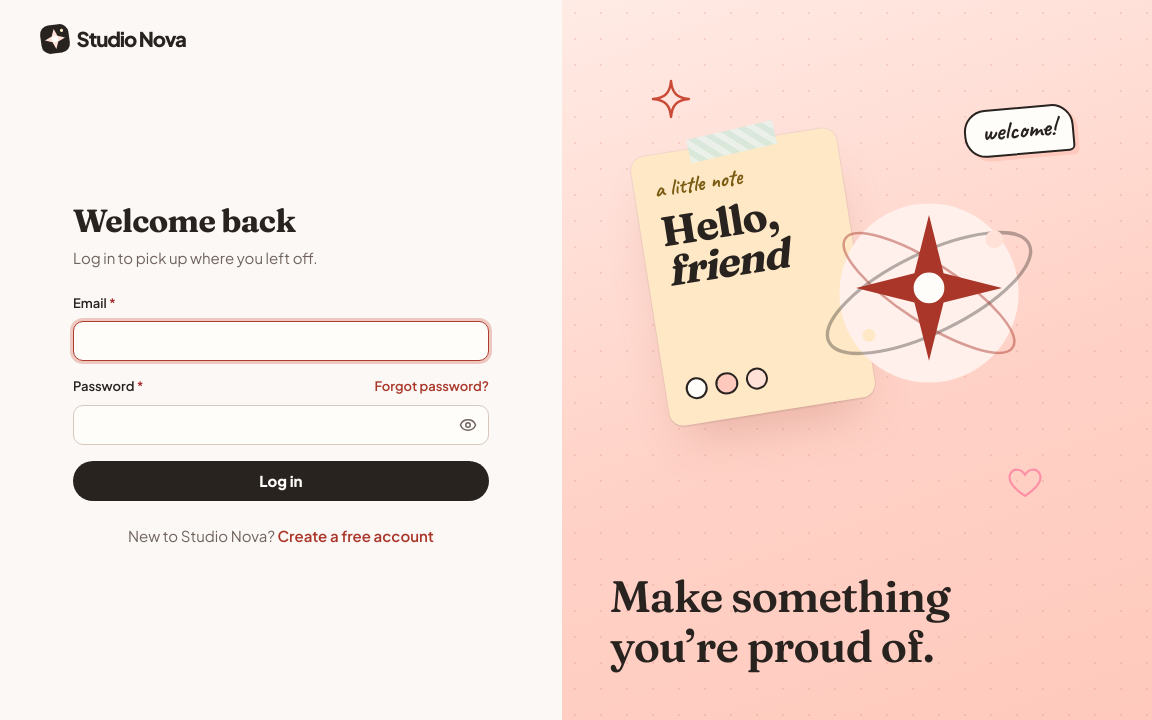
Test case: login › tells the user when they are rate limited
Type "ada@example.com" into the field labelled "Email *". click: (281, 341)
box: [86, 322, 476, 360]
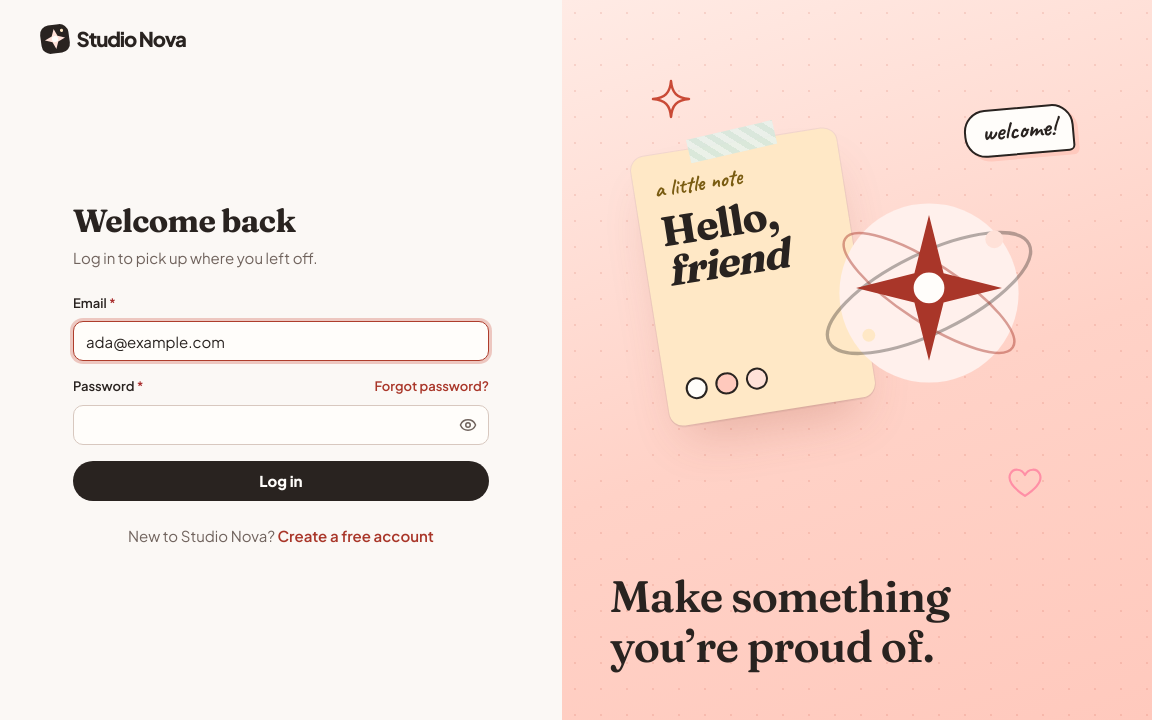
Type "x" into the password field labelled "Password *". click: (265, 425)
box: [86, 406, 444, 444]
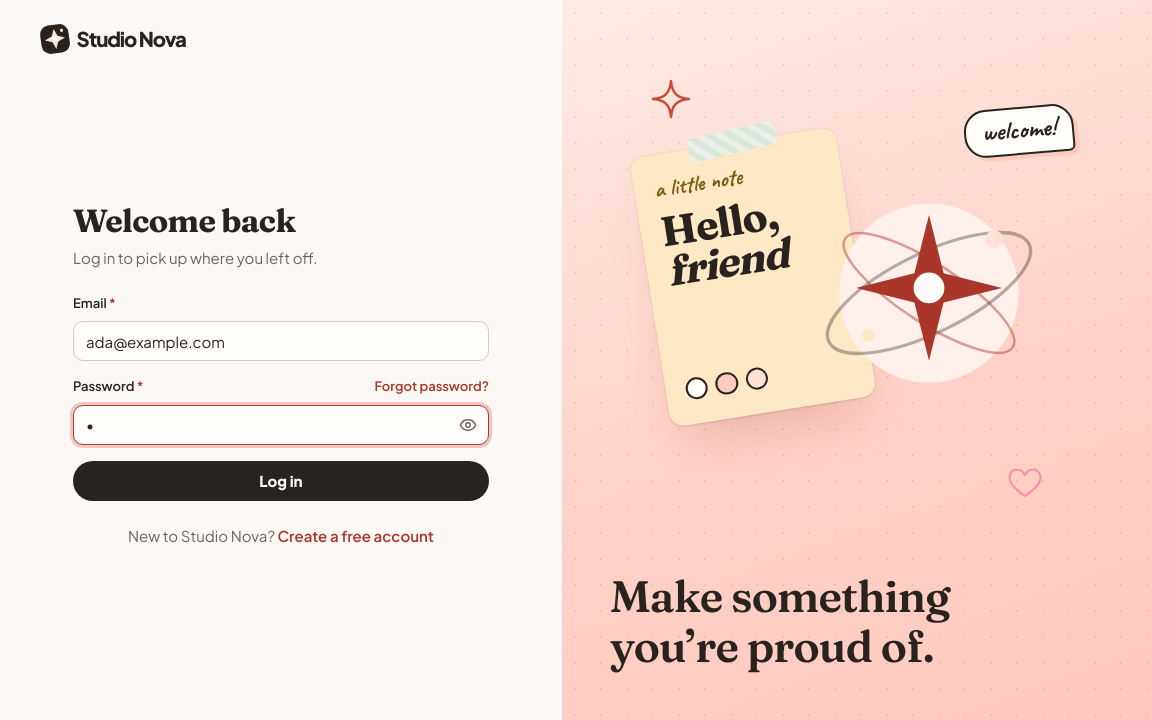
Click the button "Log in". click: (281, 481)
box: [73, 461, 489, 501]
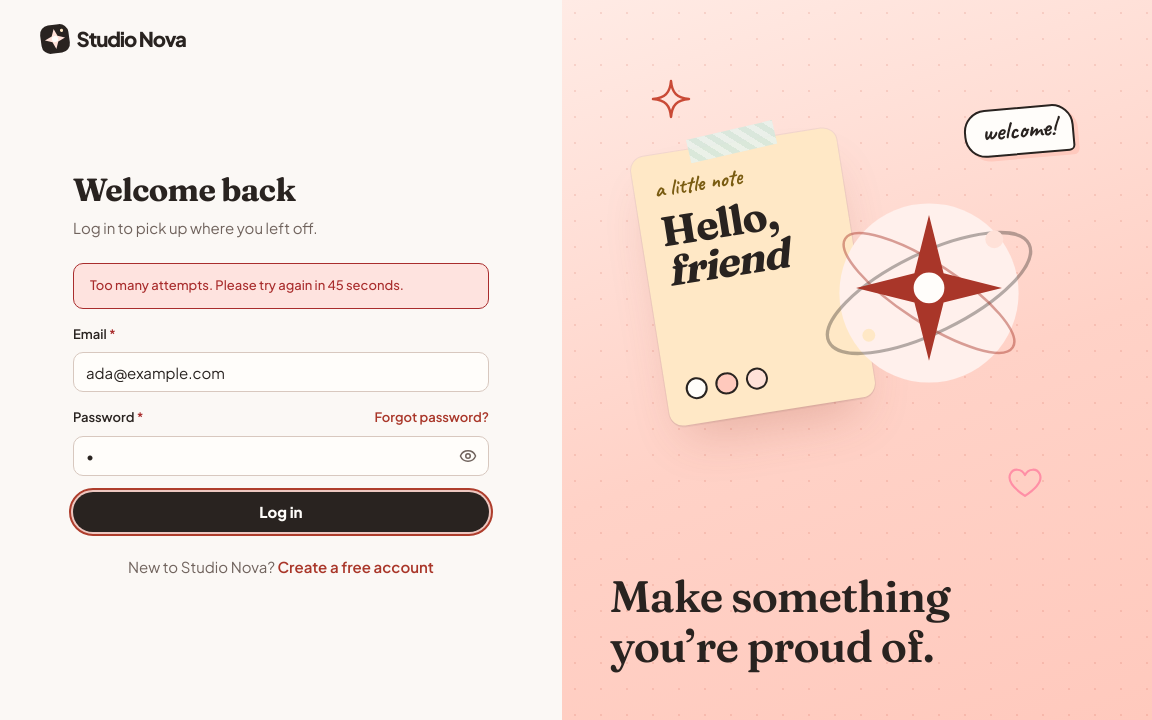
Expected: the message reads "Too many attempts. Please try again in 45 seconds.", [90, 277, 404, 293]
